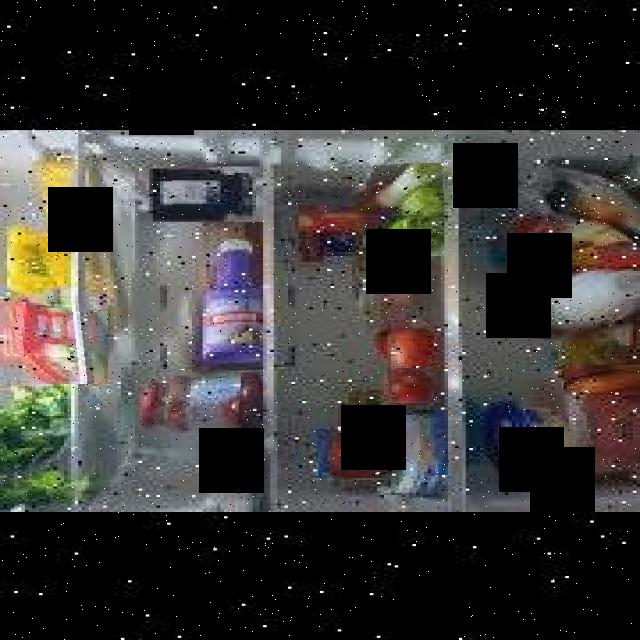apple: (318, 427, 404, 478)
butter: (2, 294, 108, 384)
carrot: (562, 362, 640, 392)
cheese: (391, 410, 448, 492)
grated_cheese: (469, 160, 640, 241)
leek: (366, 163, 444, 253)
marmelade: (140, 370, 262, 430), (149, 166, 263, 220)
tomato: (391, 324, 434, 376), (384, 366, 434, 400)
